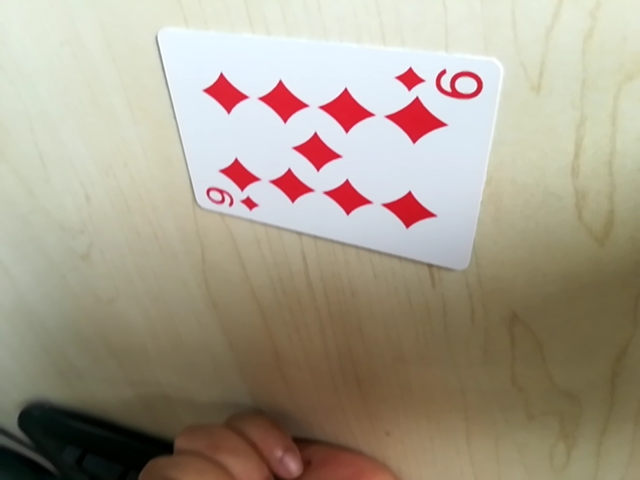fk 9: (394, 58, 489, 102), (198, 184, 263, 220)
